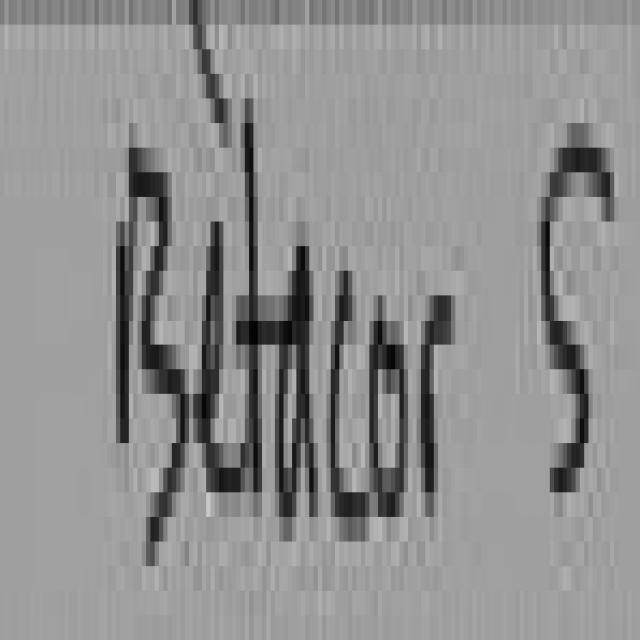5: (546, 148, 619, 480)
B: (116, 148, 189, 554)
a: (278, 246, 318, 517)
c: (328, 271, 369, 531)
e: (197, 222, 245, 492)
o: (374, 320, 408, 505)
r: (425, 295, 453, 517)
t: (241, 98, 279, 480)
